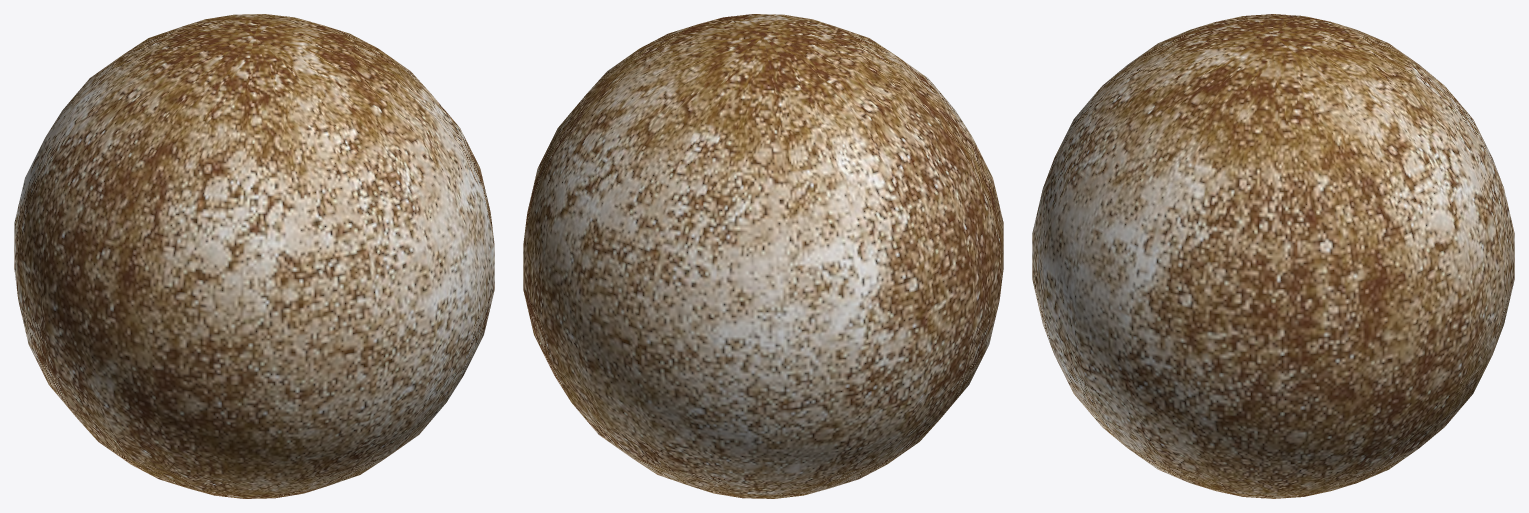
The model's file is AsteroidM.obj.
The picture shows the model from 3 angles, left to right: view 1: azimuth 30°, elevation 25°; view 2: azimuth 150°, elevation 25°; view 3: azimuth 270°, elevation 25°; orthographic projection.
Size of the model in its own units: 1.99 by 2 by 1.99.
1 material, 1 textured.
